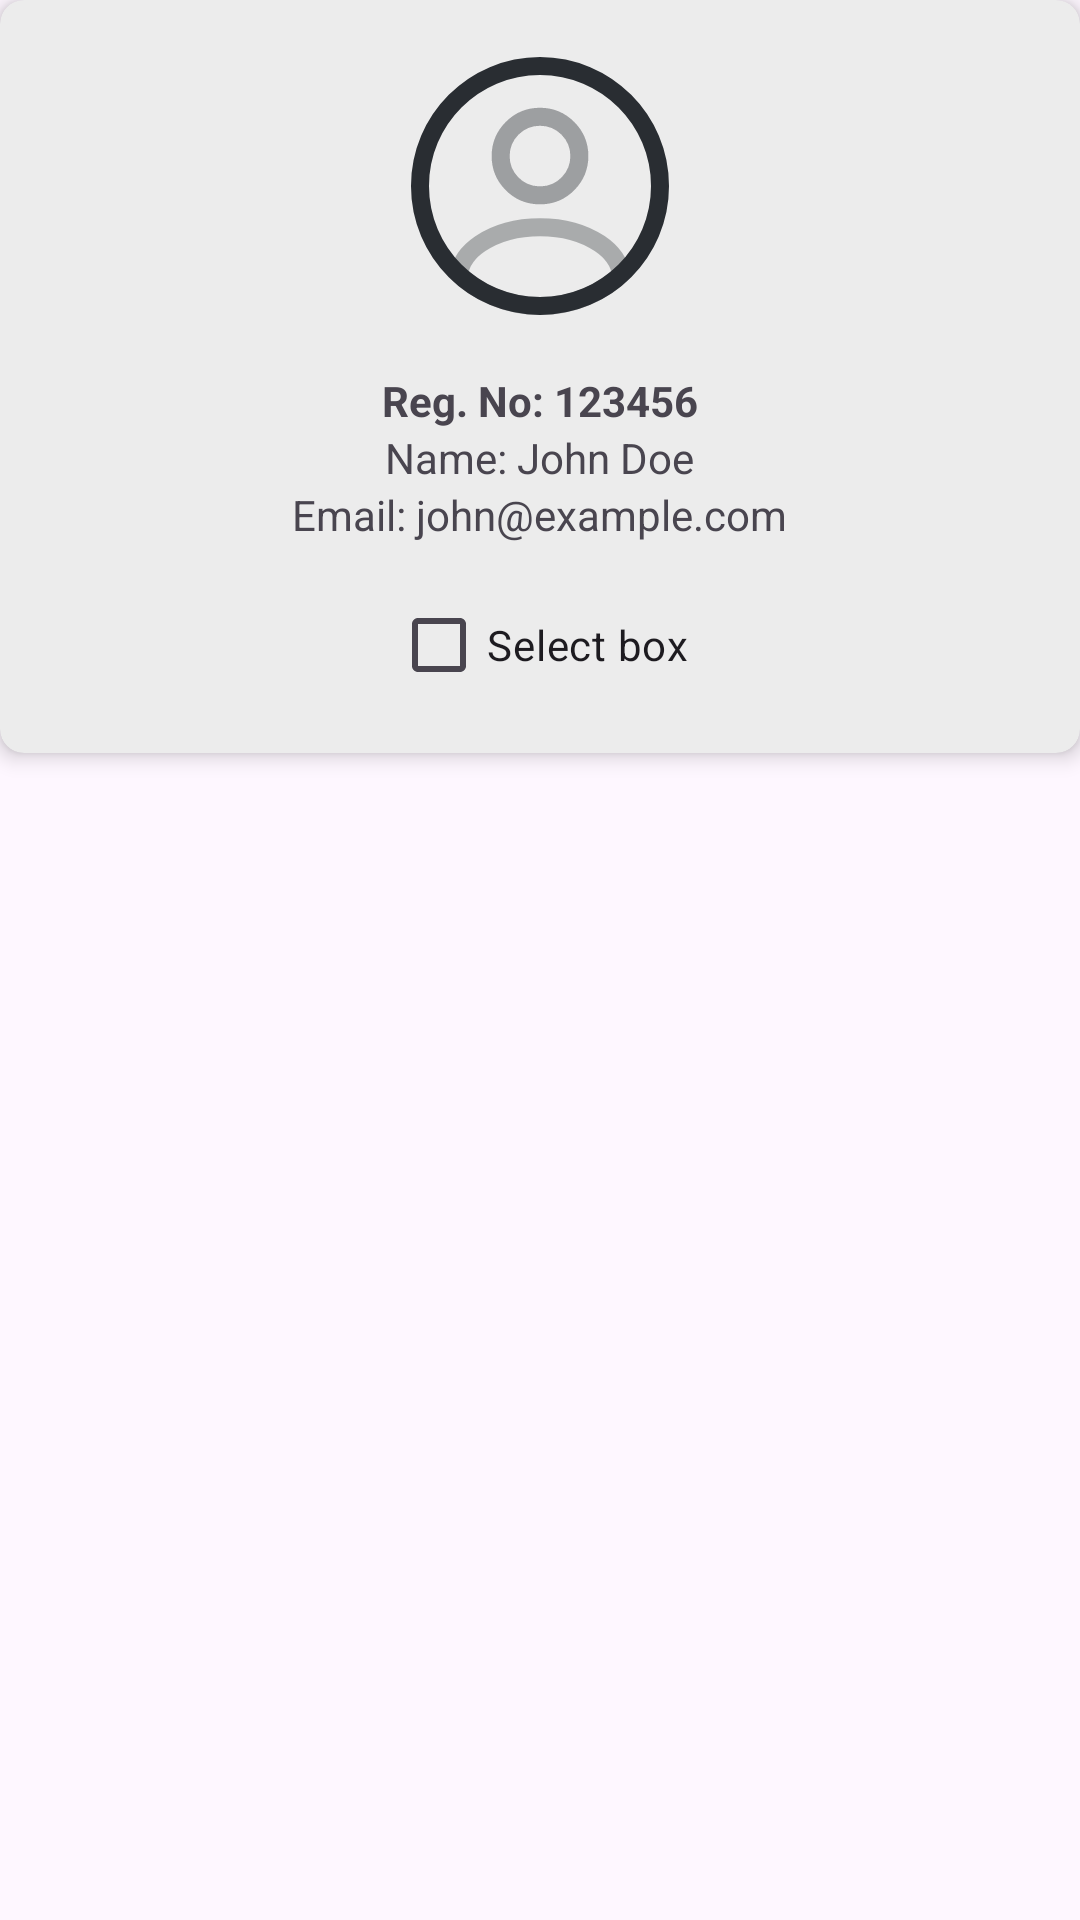

Icon bounding boxes for this 1080 x 1920 phone screenshot, format bbox=(x1, y1, x2, y2):
profile circle: bbox=(411, 57, 669, 315)
